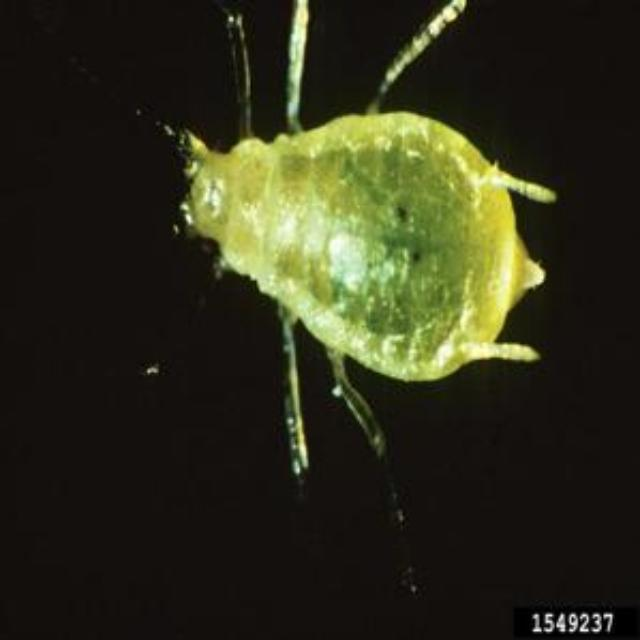Green peach aphid: (67, 2, 579, 520)
